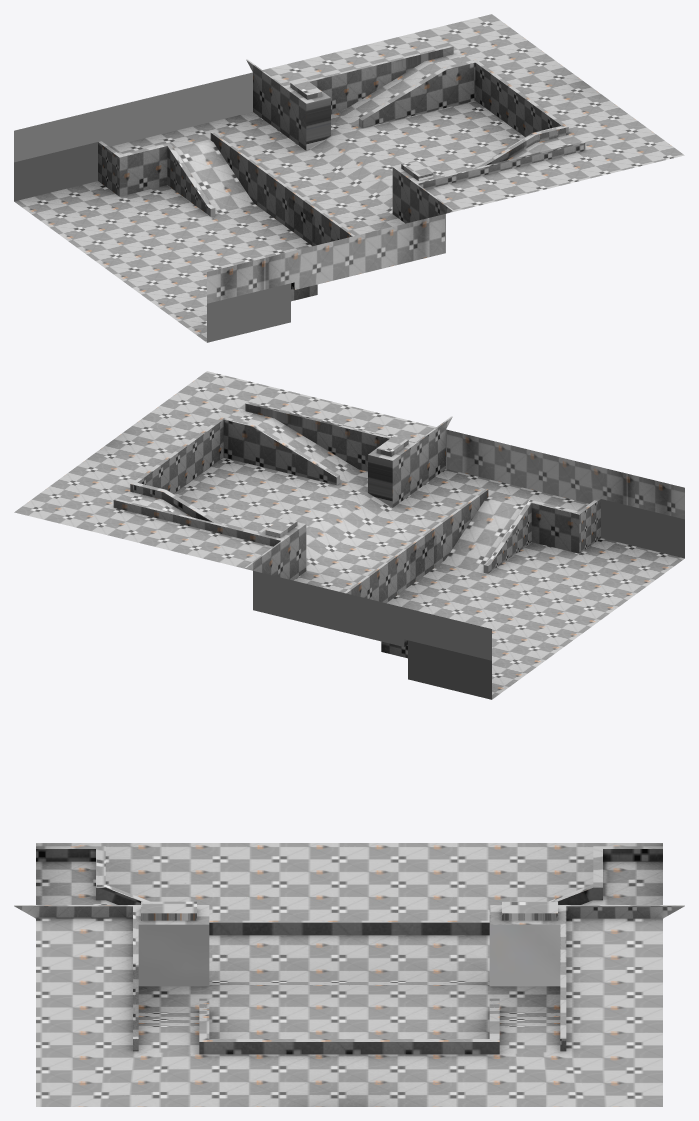
Rendered from Outside.obj.
3 renders of one model, top to bottom at view 1: azimuth 30°, elevation 25°; view 2: azimuth 150°, elevation 25°; view 3: azimuth 270°, elevation 25°, orthographic. The views are drawn at different scales.
Visible parts, largest first — view 1: Test_Innenhof; view 2: Test_Innenhof; view 3: Test_Innenhof.
Part boxes in pixels (bbox=[...]): Test_Innenhof: bbox=[14, 14, 684, 342]; Test_Innenhof: bbox=[14, 371, 684, 699]; Test_Innenhof: bbox=[14, 843, 684, 1106].
Size of the model in its own units: 68.69 by 11.39 by 51.43.
1 material, 1 textured.
